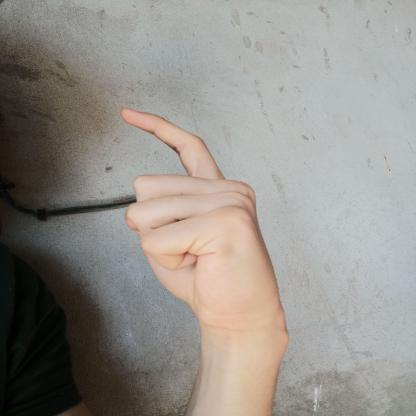RAA: (107, 97, 301, 337)
